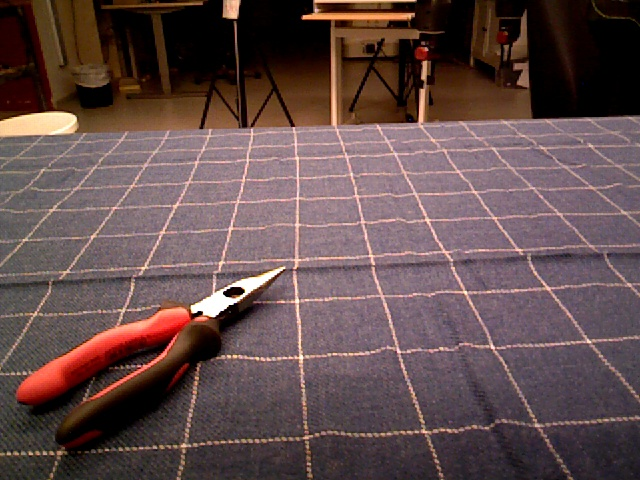plier1: (12, 264, 287, 454)
